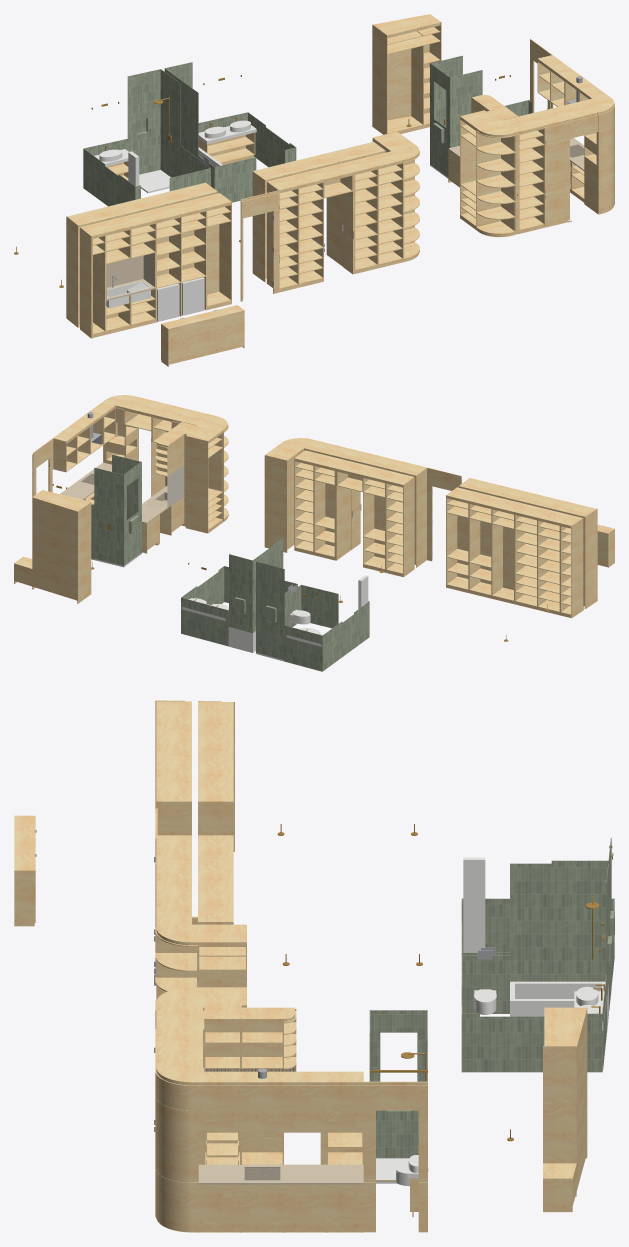
File: einbauten_film.glb
3 views of the same model, one above another, from view 1: azimuth 30°, elevation 25°; view 2: azimuth 150°, elevation 25°; view 3: azimuth 270°, elevation 25° (orthographic). The views are drawn at different scales.
Parts seen in each view (by area): view 1: einbauten; view 2: einbauten; view 3: einbauten.
Part boxes in pixels (<box>): einbauten: <box>14,14,614,366</box>; einbauten: <box>14,395,614,671</box>; einbauten: <box>14,700,614,1232</box>.
Bounding box in the file's own units: 14.75 × 2.83 × 9.8.
Materials: 5 (3 with a texture image).
